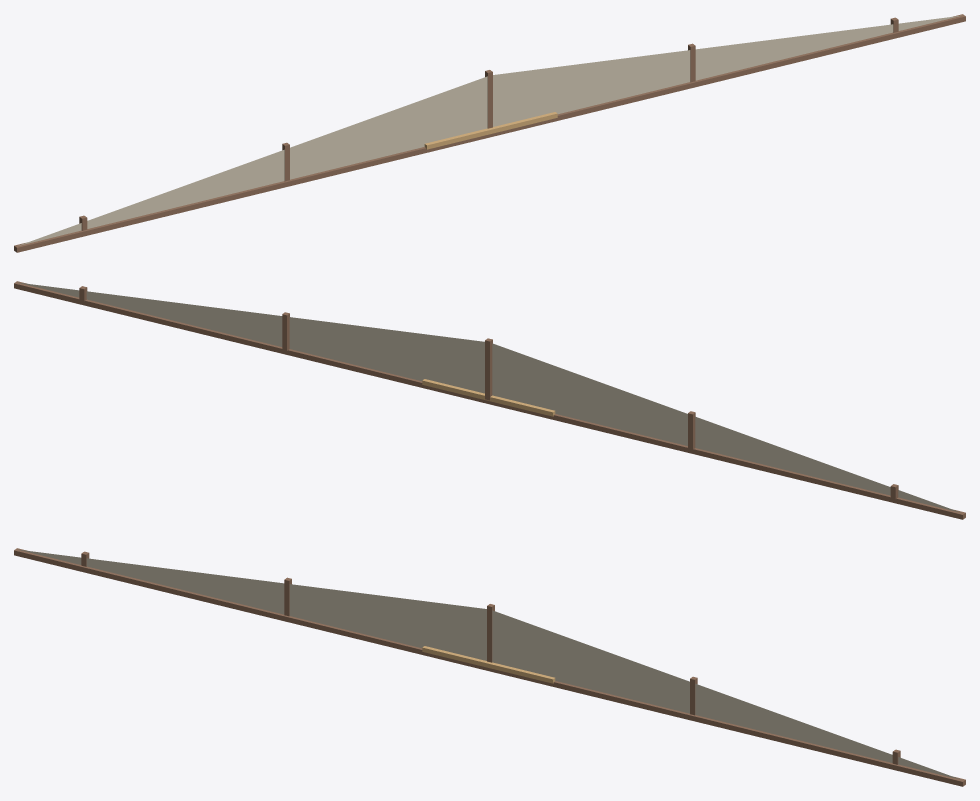
Rendered from gable-front.glb.
The picture shows the model from 3 angles, top to bottom: view 1: azimuth 30°, elevation 25°; view 2: azimuth 150°, elevation 25°; view 3: azimuth 330°, elevation 25°; orthographic projection.
Visible parts, largest first — view 1: piece0, piece1, piece2, piece8; view 2: piece0, piece1, piece2, piece8; view 3: piece1, piece0, piece2, piece8.
Boxes of the visible parts, left/top/right/bottom form: piece0: left=18, top=76, right=487, bottom=245; piece1: left=493, top=15, right=961, bottom=126; piece2: left=14, top=14, right=965, bottom=252; piece8: left=424, top=112, right=557, bottom=149; piece0: left=492, top=343, right=961, bottom=512; piece1: left=18, top=282, right=484, bottom=393; piece2: left=14, top=281, right=965, bottom=519; piece8: left=422, top=379, right=555, bottom=416; piece1: left=492, top=610, right=961, bottom=779; piece0: left=18, top=549, right=486, bottom=660; piece2: left=14, top=548, right=965, bottom=786; piece8: left=422, top=646, right=555, bottom=683.
Size of the model in its own units: 42.1 by 2.7 by 0.365.
